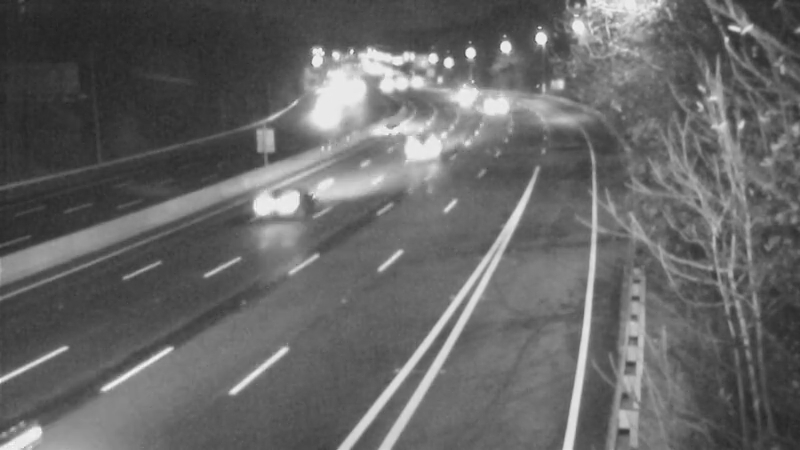vehicle: (232, 156, 312, 236), (432, 73, 482, 123), (466, 84, 516, 134), (354, 101, 404, 151), (389, 121, 439, 171), (300, 89, 350, 139)
